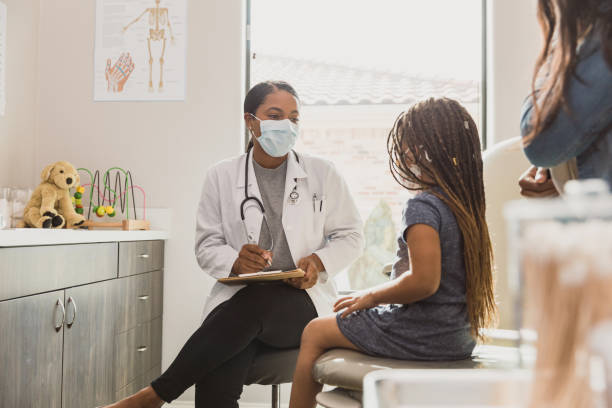with mask: (245, 77, 300, 160), (381, 113, 436, 196)
